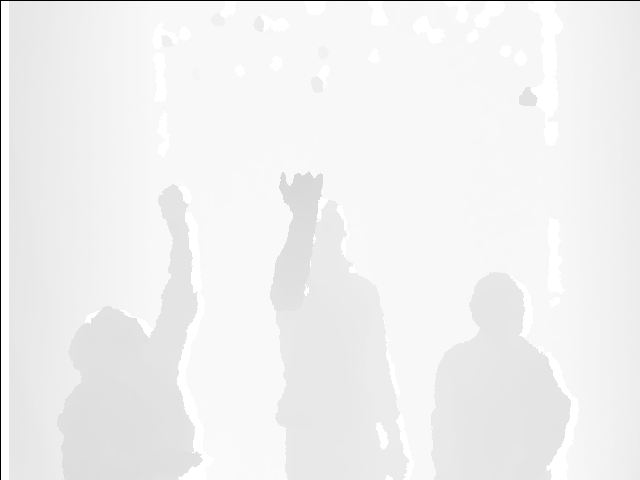hand: (279, 171, 326, 215), (158, 184, 192, 232)
